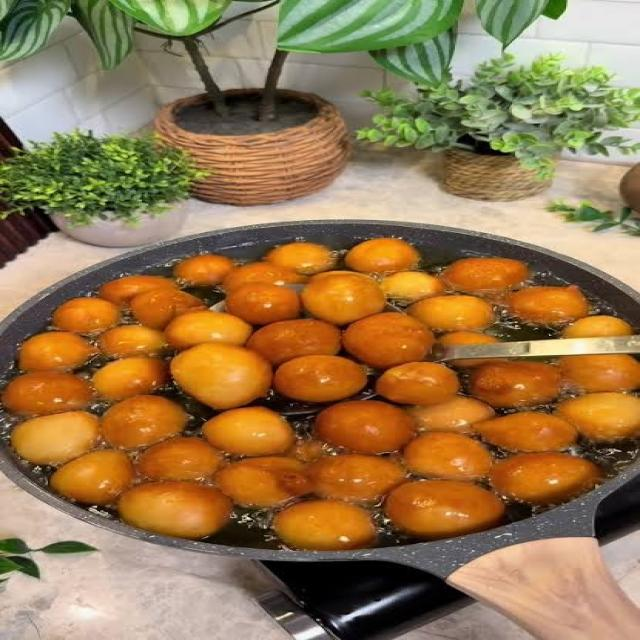Luqaimat: (96, 255, 574, 529)
